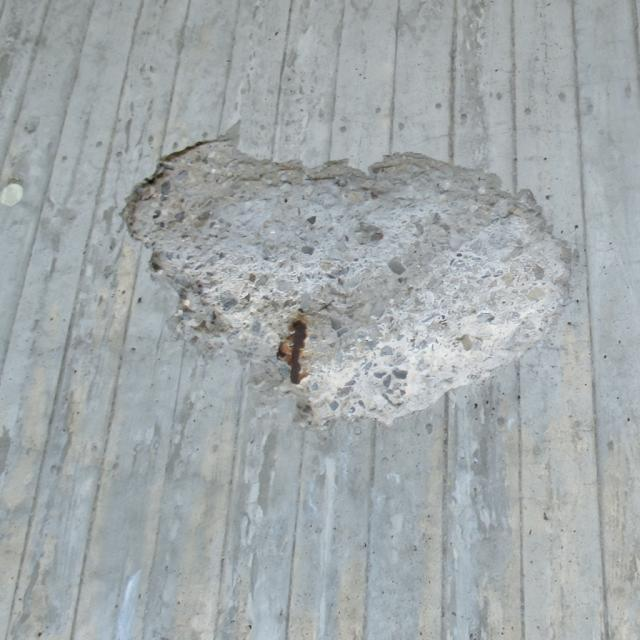D10: (122, 142, 581, 425)
